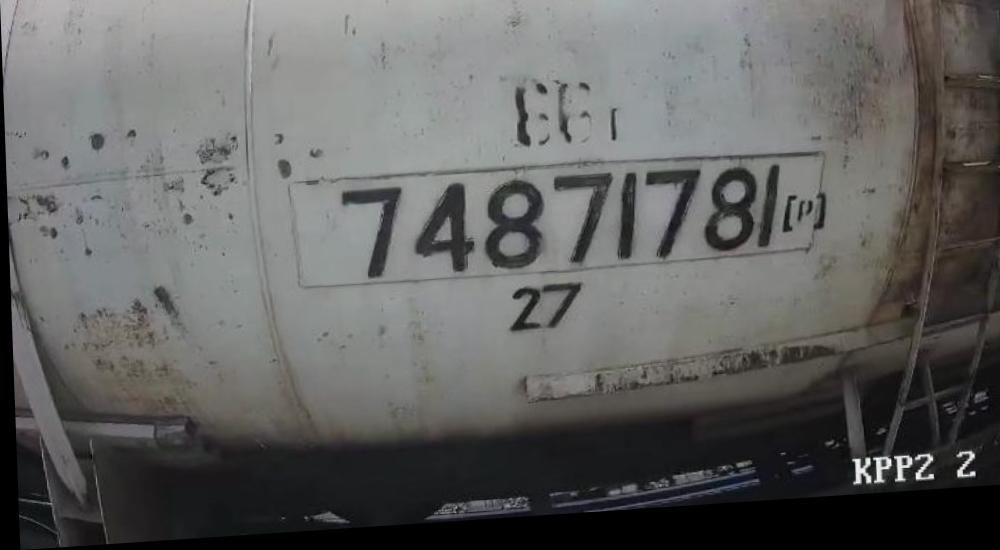Wagon-number: (328, 158, 785, 290)
